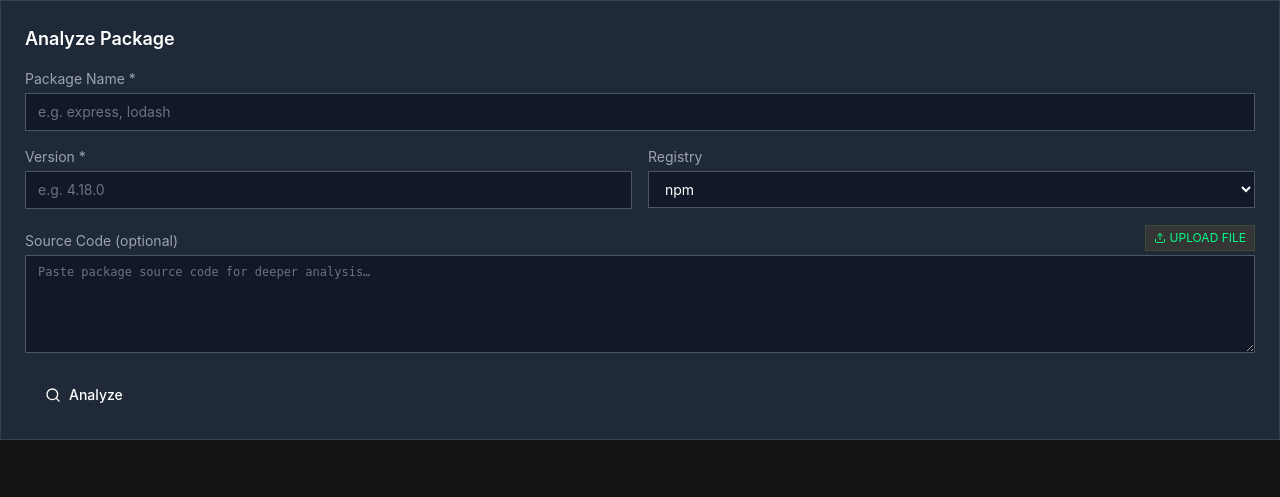
Test: AnalyzeForm › shows validation error when package name is missing
Click the button "Analyze".
click(84, 395)  # box [25,375,143,415]
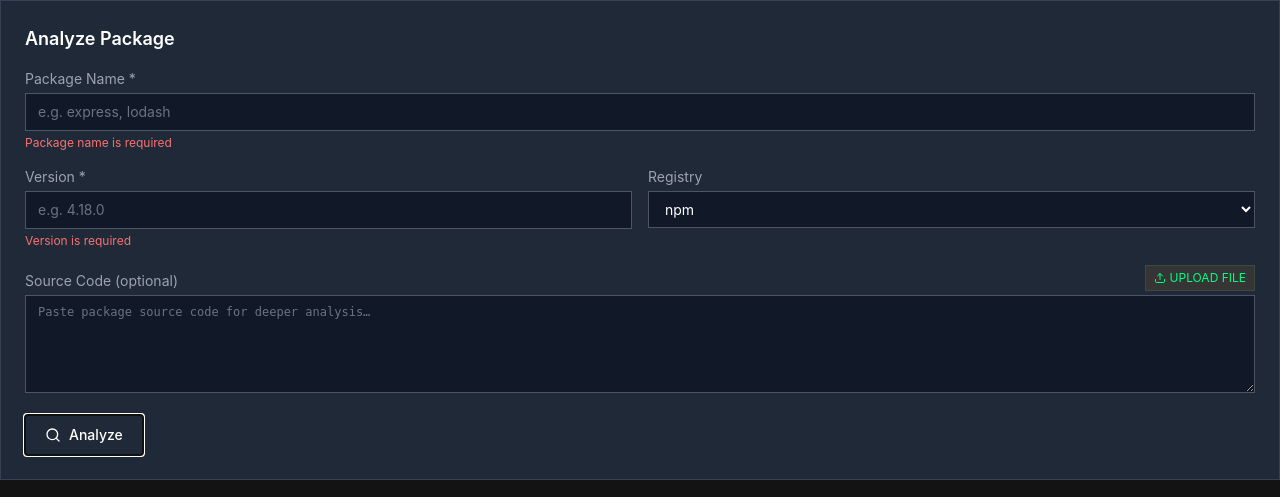
Now the text "Package name is required" is shown, box [25,135,172,150]
